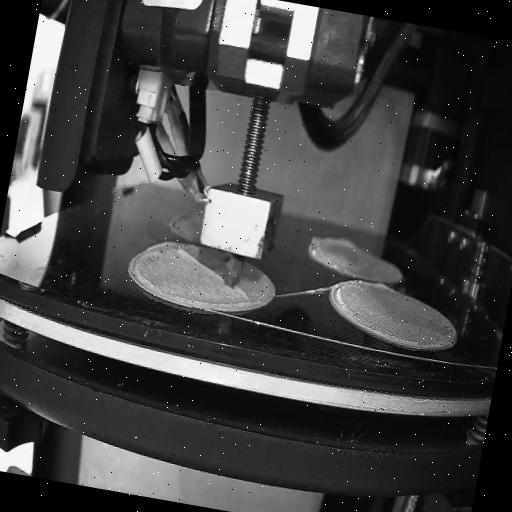over_extrusion: (309, 228, 360, 260), (172, 243, 224, 274), (166, 206, 186, 234), (228, 282, 250, 301), (372, 278, 390, 292)
